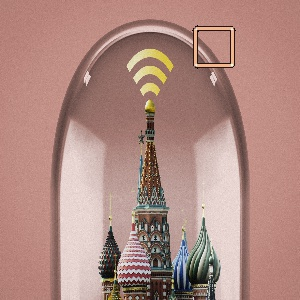square: (192, 25, 236, 68)
